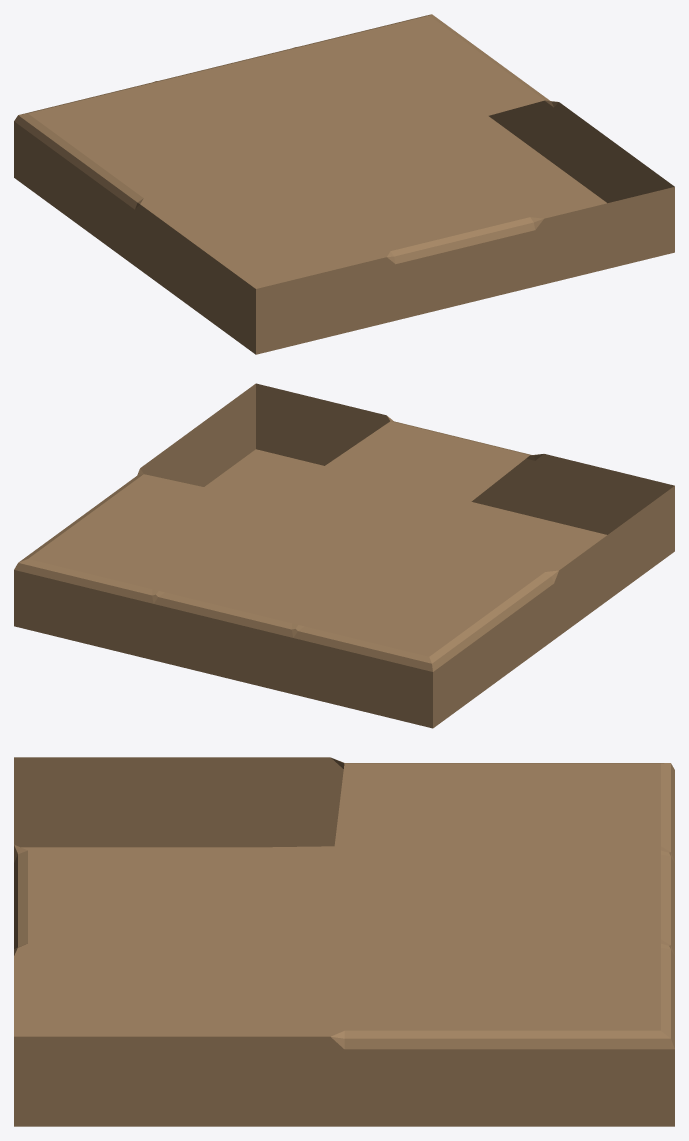
File: splitter_trace.glb
3 renders of one model, top to bottom at view 1: azimuth 30°, elevation 25°; view 2: azimuth 150°, elevation 25°; view 3: azimuth 270°, elevation 25°, orthographic. The views are drawn at different scales.
Parts seen in each view (by area): view 1: splitter_trace; view 2: splitter_trace; view 3: splitter_trace.
Boxes of the visible parts, <box> form: splitter_trace: <box>14,14,674,354</box>; splitter_trace: <box>14,383,674,728</box>; splitter_trace: <box>14,757,674,1126</box>.
Size of the model in its own units: 1 by 0.15 by 1.
